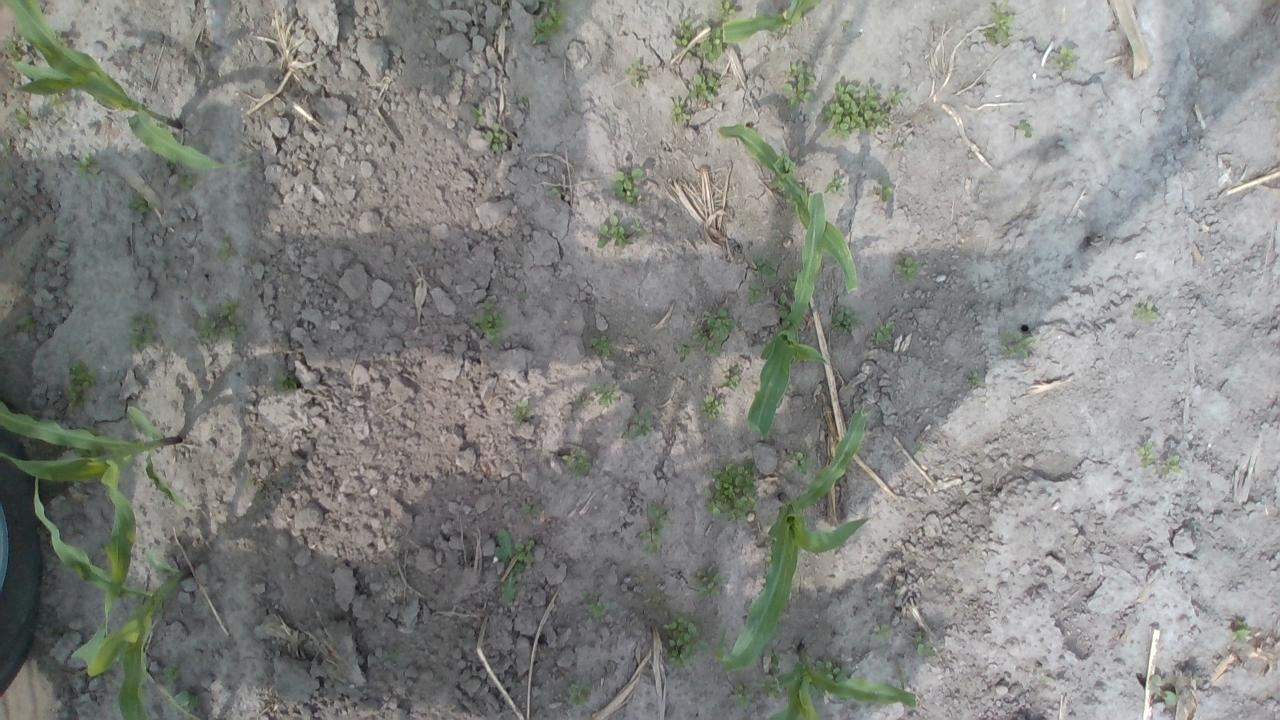Maize: (5, 406, 188, 644), (716, 406, 872, 672), (30, 474, 199, 719), (5, 6, 238, 176), (716, 122, 862, 296), (741, 194, 838, 442), (756, 659, 922, 716), (720, 0, 826, 45)
Weeds: (730, 652, 850, 711), (822, 77, 902, 138), (486, 524, 532, 608), (669, 65, 716, 128), (698, 366, 743, 429), (195, 293, 247, 344), (673, 15, 727, 64), (708, 466, 755, 520), (660, 615, 706, 669), (694, 310, 734, 360), (745, 252, 780, 307), (982, 0, 1018, 51), (994, 322, 1034, 366), (639, 502, 670, 558), (782, 58, 815, 110), (570, 382, 622, 414), (528, 1, 564, 46), (62, 356, 93, 406), (472, 296, 504, 344), (1139, 441, 1182, 476), (126, 311, 160, 354), (592, 215, 634, 248), (611, 166, 649, 201), (480, 112, 512, 152), (1144, 671, 1180, 706), (624, 408, 652, 443), (698, 565, 724, 601), (827, 304, 855, 336), (560, 446, 592, 474), (1052, 45, 1080, 74), (898, 250, 925, 280), (582, 593, 608, 619), (511, 397, 536, 424), (626, 62, 649, 88), (1135, 303, 1162, 325), (567, 683, 591, 707), (870, 321, 892, 345), (592, 336, 614, 360), (1011, 118, 1034, 140)
